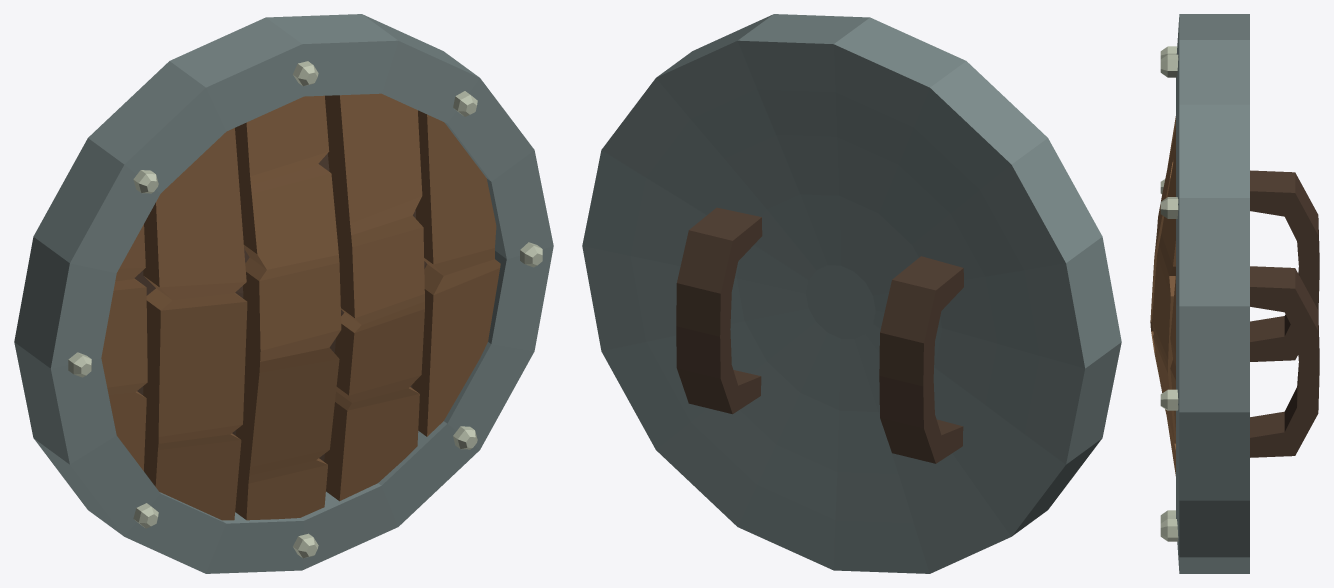
Rendered from shield-round-boards.glb.
3 views of the same model, side by side, from view 1: azimuth 30°, elevation 25°; view 2: azimuth 150°, elevation 25°; view 3: azimuth 270°, elevation 25° (orthographic). The views are drawn at different scales.
Parts seen in each view (by area): view 1: shield-round-boards runtime mesh; view 2: shield-round-boards runtime mesh; view 3: shield-round-boards runtime mesh.
Boxes of the visible parts, box(x1,y1,x2,y2) form: shield-round-boards runtime mesh: box(14, 14, 553, 573); shield-round-boards runtime mesh: box(582, 14, 1121, 573); shield-round-boards runtime mesh: box(1150, 14, 1319, 573).
Size of the model in its own units: 0.76 by 0.76 by 0.2294.
